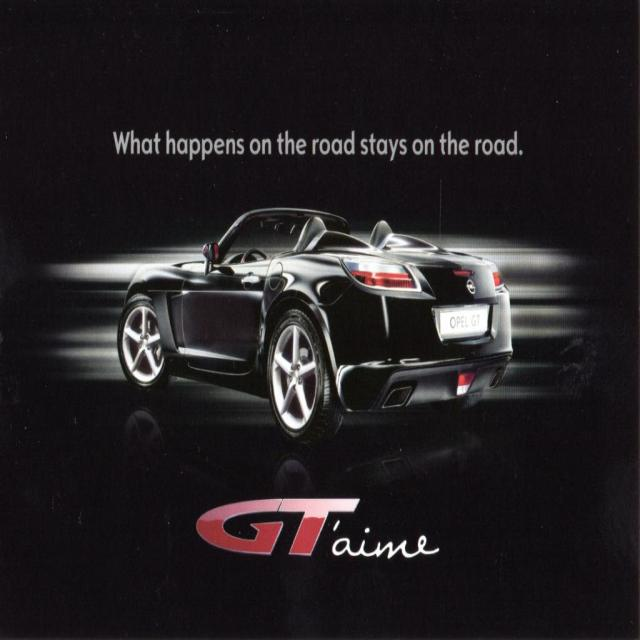car: (117, 205, 514, 446)
